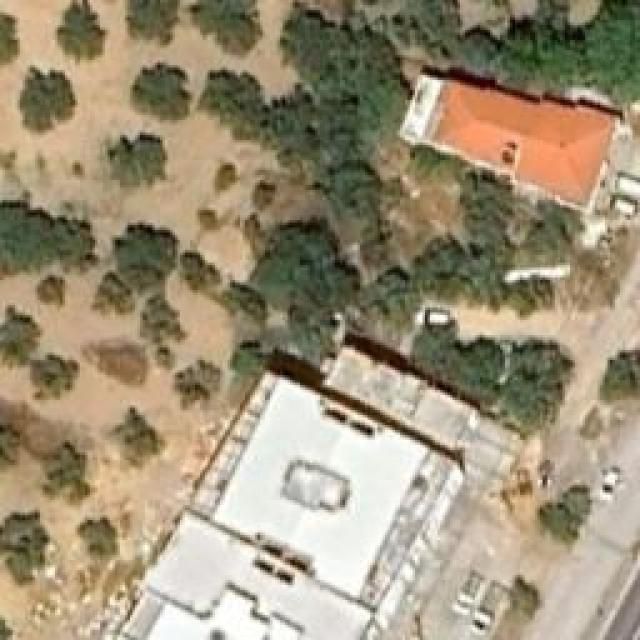Tree: (0, 202, 82, 279), (508, 340, 567, 428), (203, 65, 268, 135), (193, 0, 263, 60), (115, 225, 178, 290), (100, 405, 165, 468), (0, 507, 50, 585), (108, 130, 168, 188), (20, 68, 75, 131), (132, 62, 190, 120), (535, 482, 590, 540), (58, 0, 108, 58), (38, 440, 88, 498), (125, 0, 183, 45), (173, 360, 223, 410), (140, 293, 185, 348), (0, 307, 38, 365), (600, 348, 640, 401), (78, 515, 121, 563), (28, 358, 73, 401), (182, 250, 220, 293), (505, 573, 540, 616), (227, 342, 265, 380), (30, 275, 70, 310), (0, 10, 20, 70), (208, 160, 241, 193), (250, 180, 280, 213), (195, 203, 225, 233)
